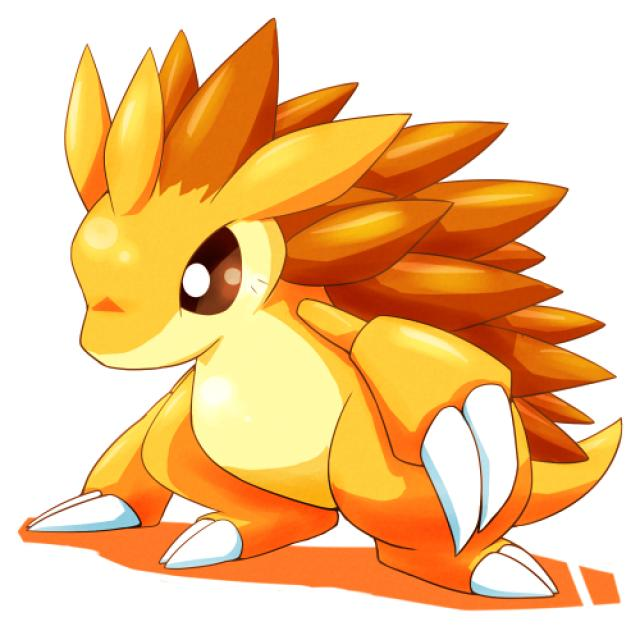Sandslash: (61, 72, 545, 557)
